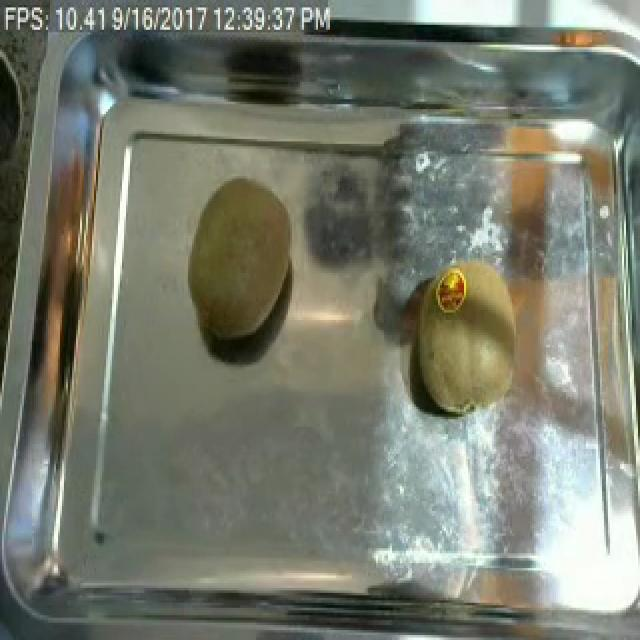Fruit: (402, 251, 530, 429), (176, 174, 302, 352)
